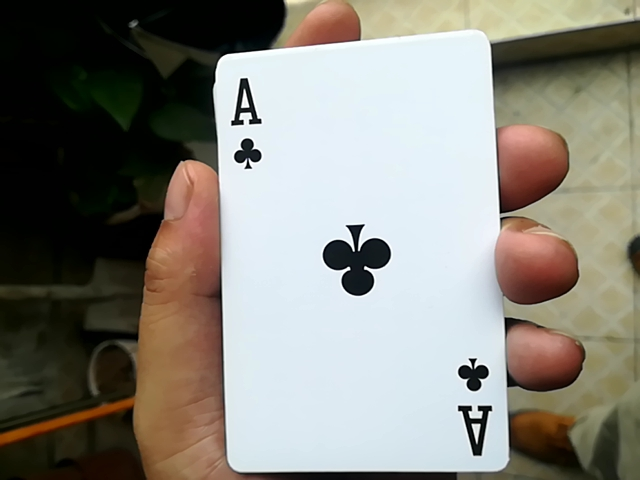mh a: (197, 22, 522, 473)
